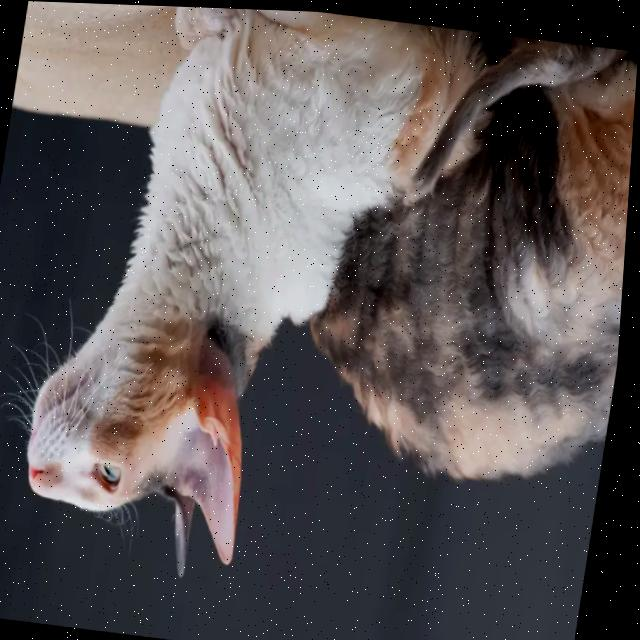Cornish Rex: (8, 1, 640, 629)
